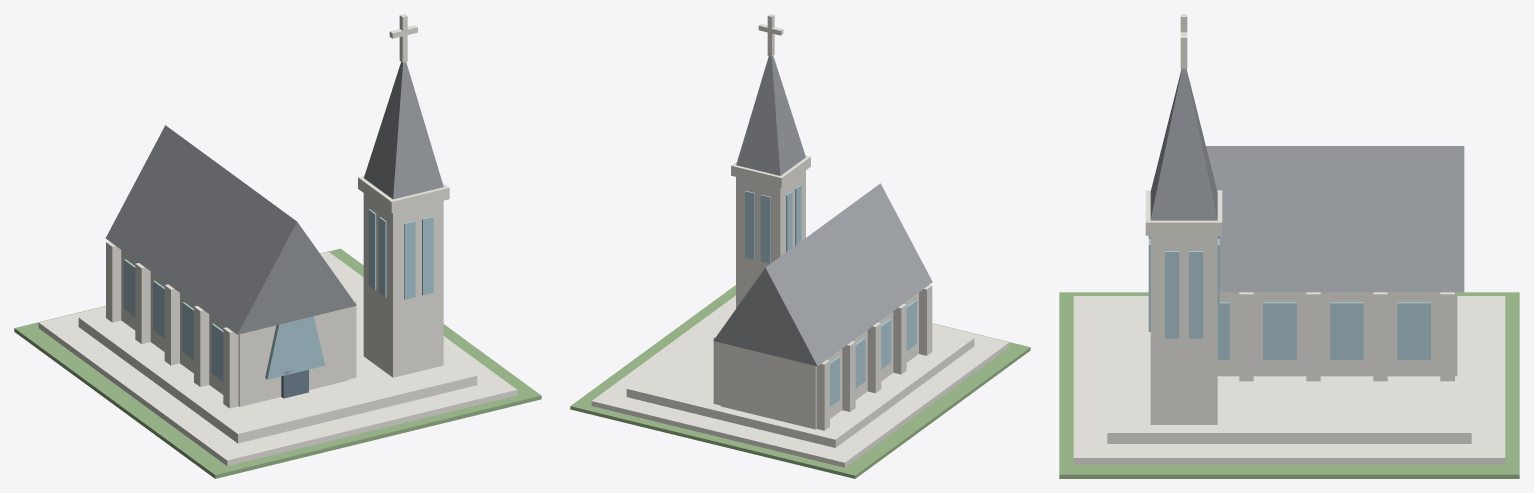
The model's file is temple.glb.
3 renders of one model, left to right at view 1: azimuth 30°, elevation 25°; view 2: azimuth 150°, elevation 25°; view 3: azimuth 270°, elevation 25°, orthographic. The views are drawn at different scales.
Parts seen in each view (by area): view 1: western_modern_temple; view 2: western_modern_temple; view 3: western_modern_temple.
Boxes of the visible parts, bbox=[...] form: western_modern_temple: bbox=[14, 14, 541, 478]; western_modern_temple: bbox=[570, 14, 1030, 478]; western_modern_temple: bbox=[1059, 14, 1519, 478].
Size of the model in its own units: 0.9 by 0.96 by 0.96.
